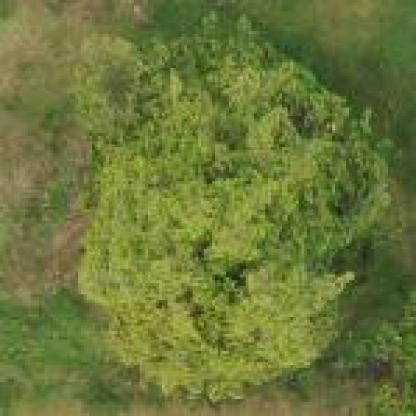Coniferous Tree: (69, 19, 401, 398)
